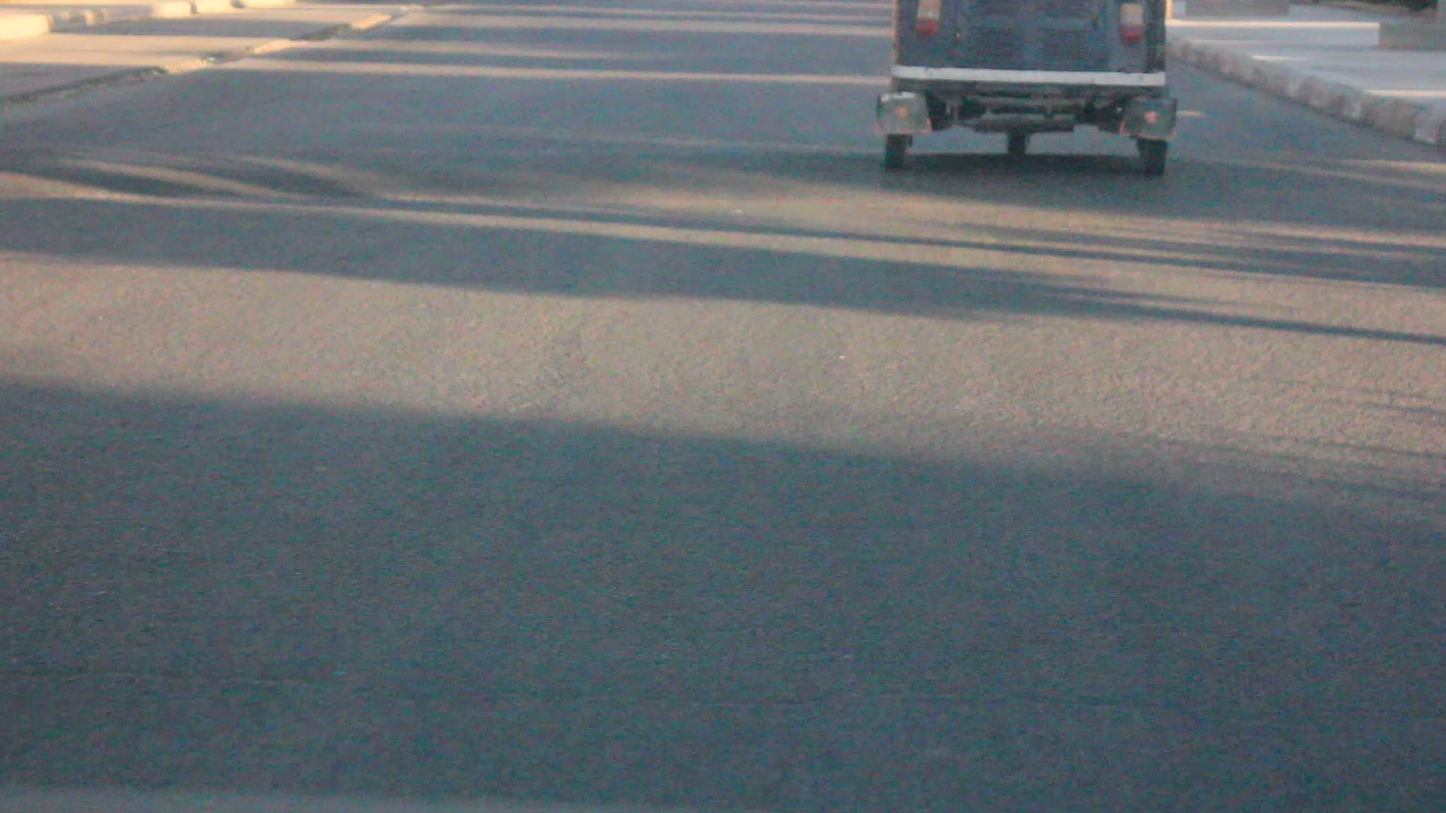Bump: (0, 142, 1445, 231)
